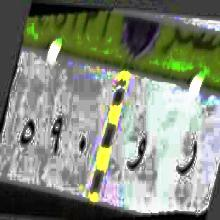0: (74, 122, 89, 172)
5: (18, 105, 42, 164)
9: (48, 106, 67, 164)
raa: (170, 129, 200, 186)
waw: (123, 127, 149, 181)
